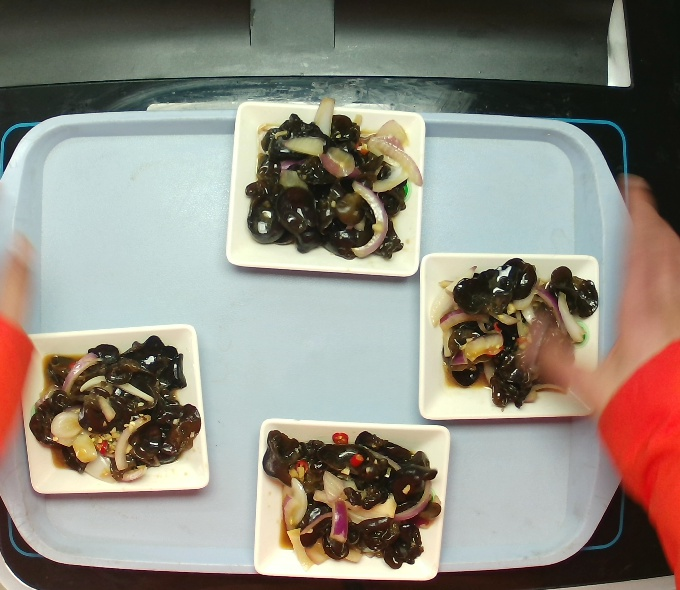wcq-LiangBanMuEr: (258, 415, 452, 581), (17, 334, 215, 488), (439, 258, 597, 408), (253, 114, 412, 258)
